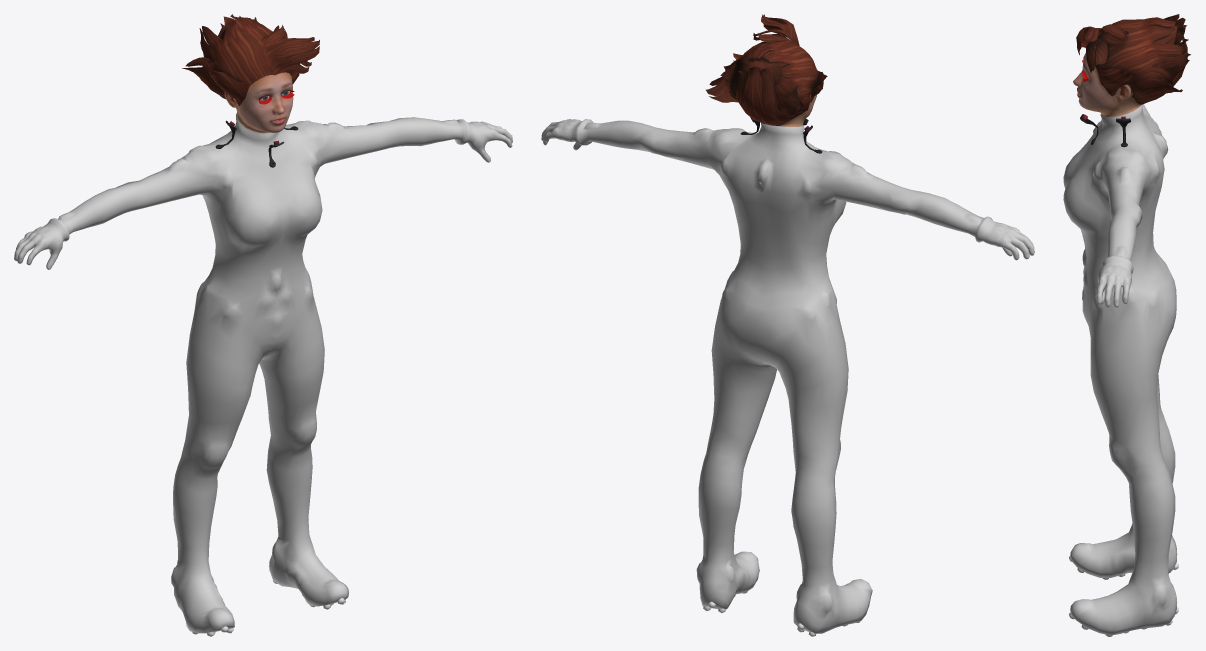
The model's file is Karen_Suit.dae.
3 views of the same model, side by side, from view 1: azimuth 30°, elevation 25°; view 2: azimuth 150°, elevation 25°; view 3: azimuth 270°, elevation 25° (orthographic).
Visible parts, largest first — view 1: Karen_Suit_Base; view 2: Karen_Suit_Base; view 3: Karen_Suit_Base.
Boxes of the visible parts, left/top/right/bottom form: Karen_Suit_Base: left=14, top=14, right=512, bottom=636; Karen_Suit_Base: left=541, top=14, right=1034, bottom=636; Karen_Suit_Base: left=1063, top=14, right=1190, bottom=636.
Size of the model in its own units: 8.4 by 1.87 by 9.43.
